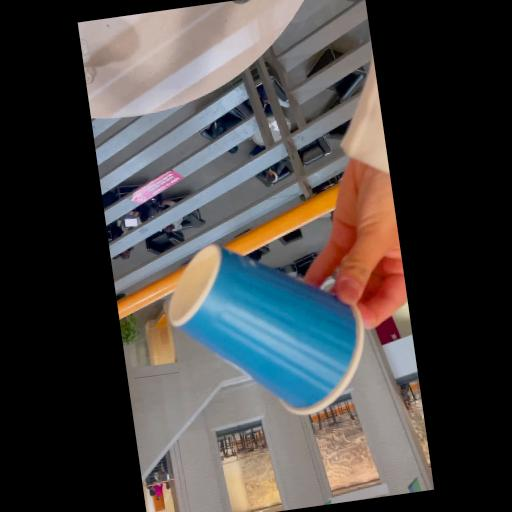lp_paper_cup: (158, 226, 374, 434)
